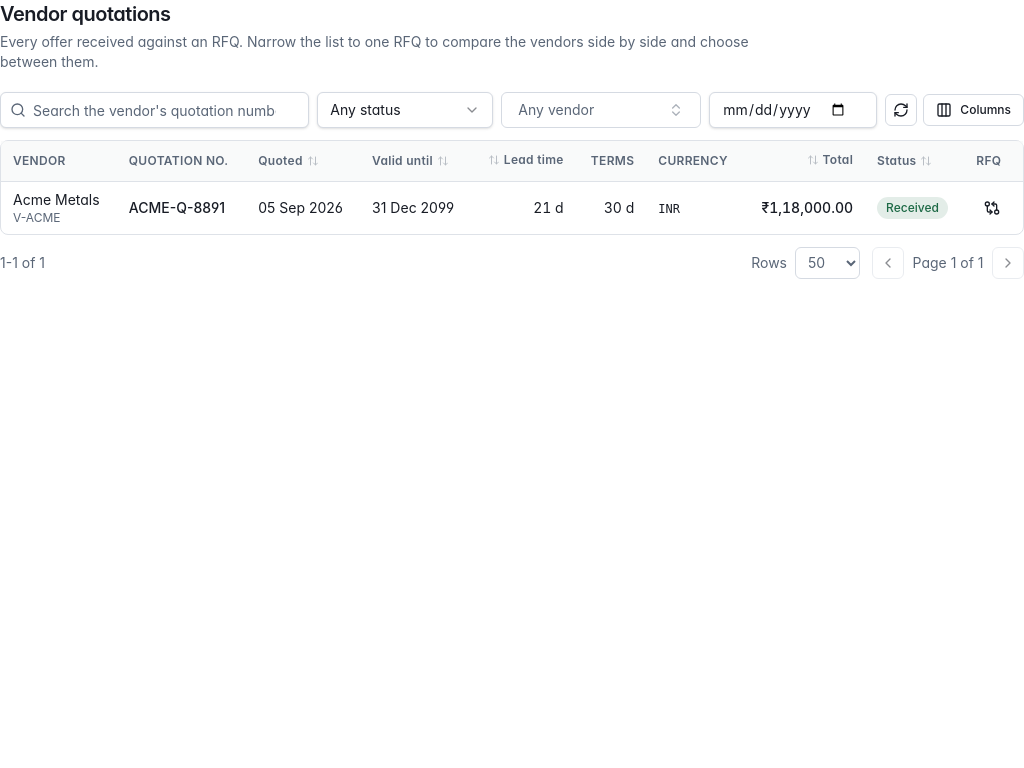
Test case: who may decide › withholds the decision from a reader looking at the offer itself
Click the button "ACME-Q-8891": [177, 208] box [129,198,225,218]
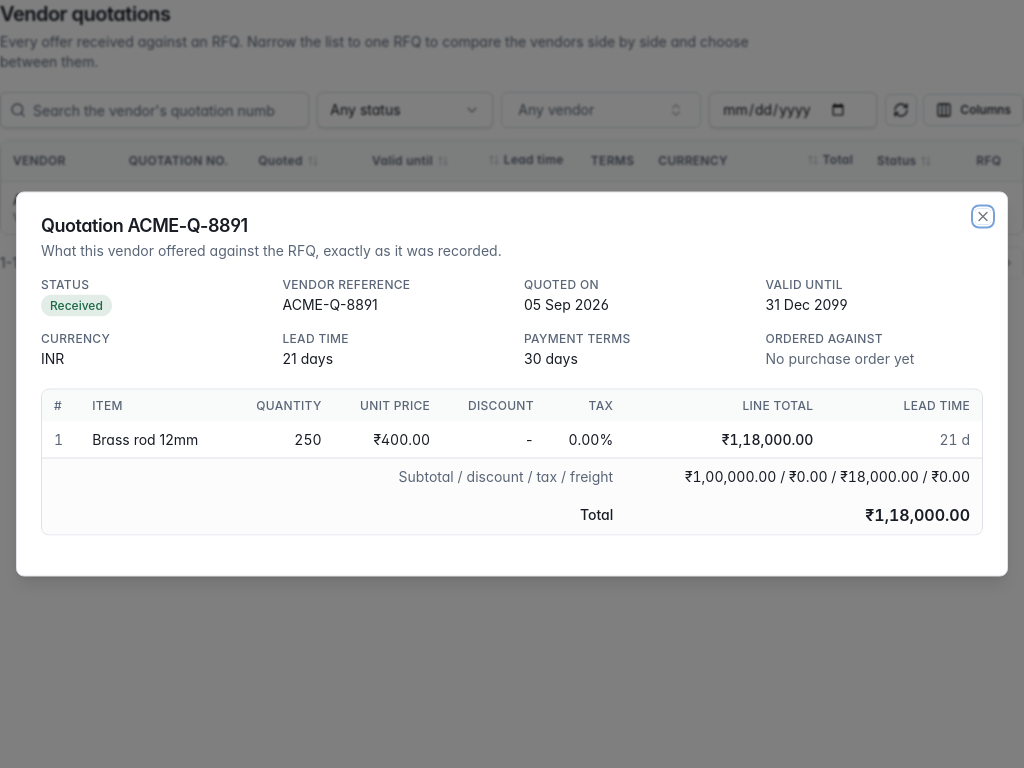
Expected: the dialog is shown, [16,192,1008,576]
Expected: the heading "Quotation ACME-Q-8891" is shown, [41,214,248,236]
